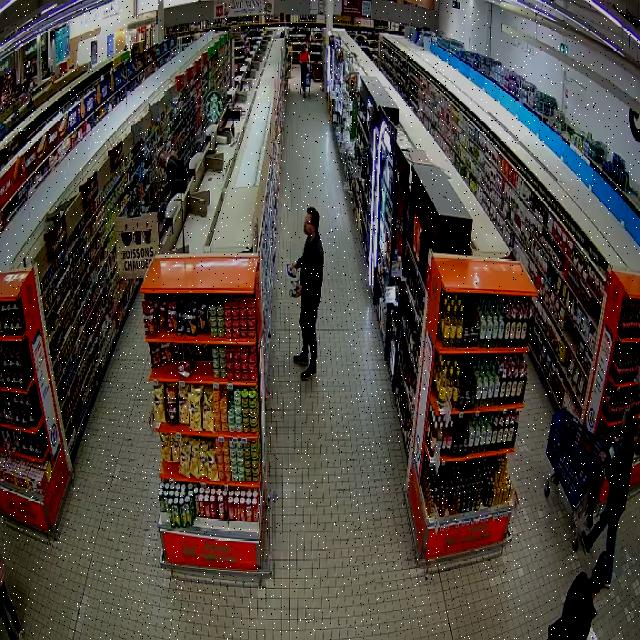article: (286, 264, 297, 278), (290, 279, 300, 287), (289, 289, 296, 298)
hands: (293, 284, 302, 298), (598, 450, 608, 461), (290, 261, 299, 270), (611, 436, 618, 443)
person: (581, 409, 633, 587), (289, 207, 323, 379), (548, 554, 609, 639)
